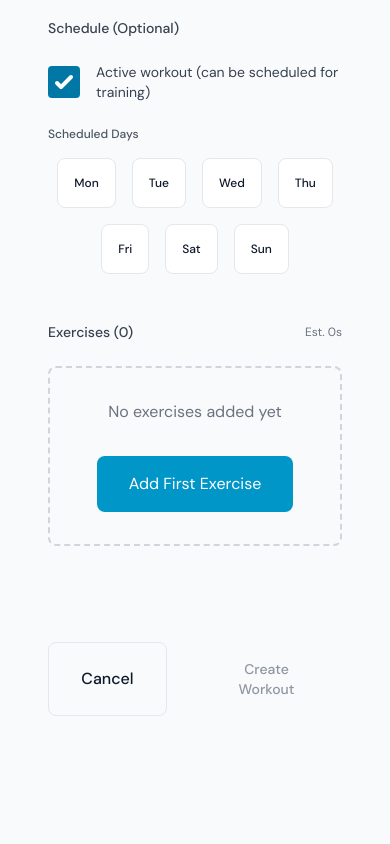
Test case: CreateWorkoutPage Exercise Type Display › should show sets/reps fields for repetition-based exercises and hide duration
(page scrolled)
# Open exercise picker (first exercise)
Click the button "Add First Exercise": (195, 484) [97,456,293,512]
(page scrolled)
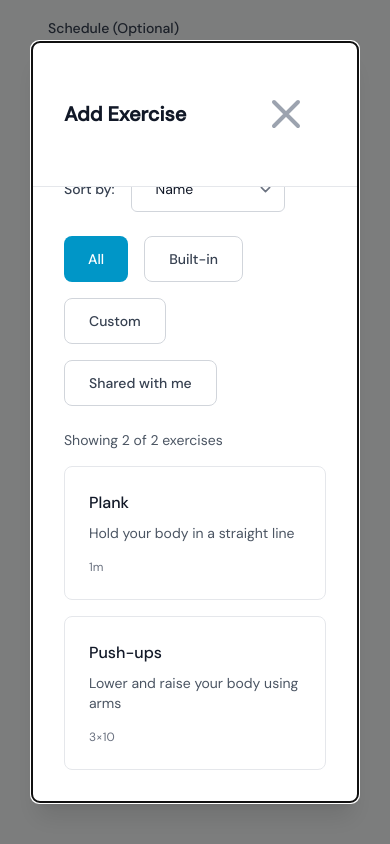
Now the heading "Push-ups" is shown, box [89,642,162,663]
Click the button "Push-ups": (195, 693) [64,616,326,770]
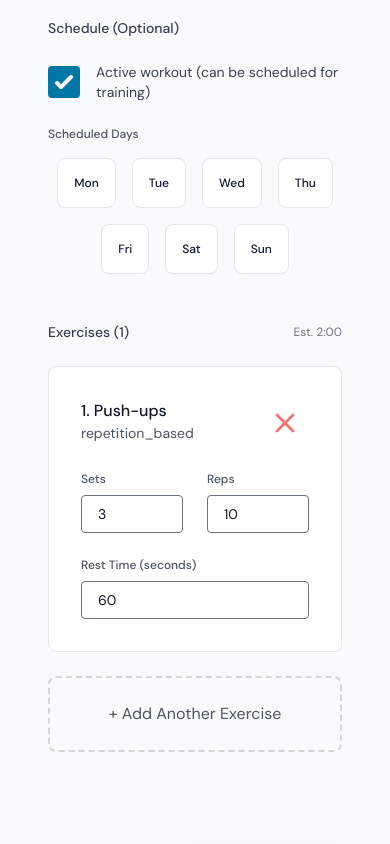
Now the heading "1. Push-ups" is shown, box [81,400,167,421]
Now the text "Sets" is shown, box [81,471,106,487]
Now the text "Reps" is shown, box [207,471,235,487]
